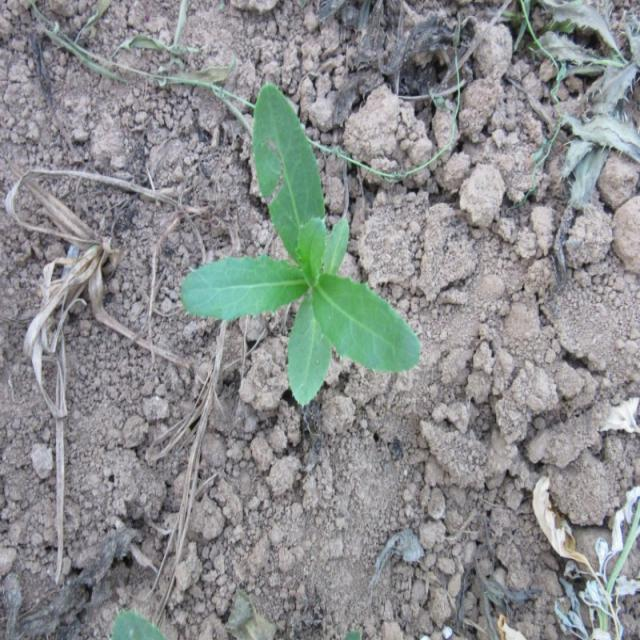cs: (178, 80, 423, 411)
